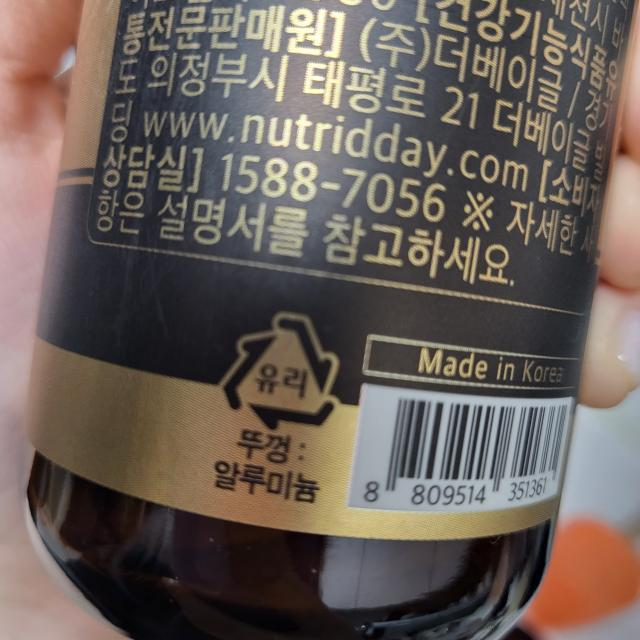Glass: (211, 306, 344, 433)
